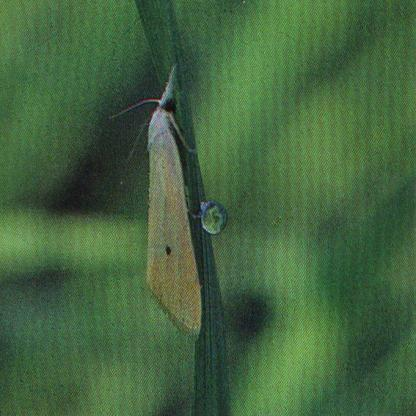stem-borer: (132, 58, 202, 333)
